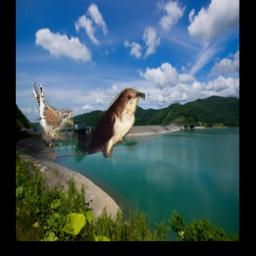Cuckoo: (79, 87, 146, 158), (31, 82, 73, 139)
